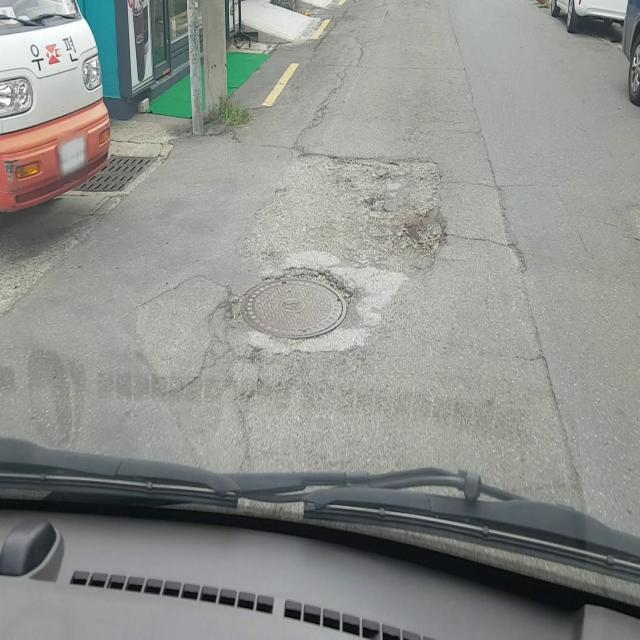Pothole: (240, 265, 356, 343)
